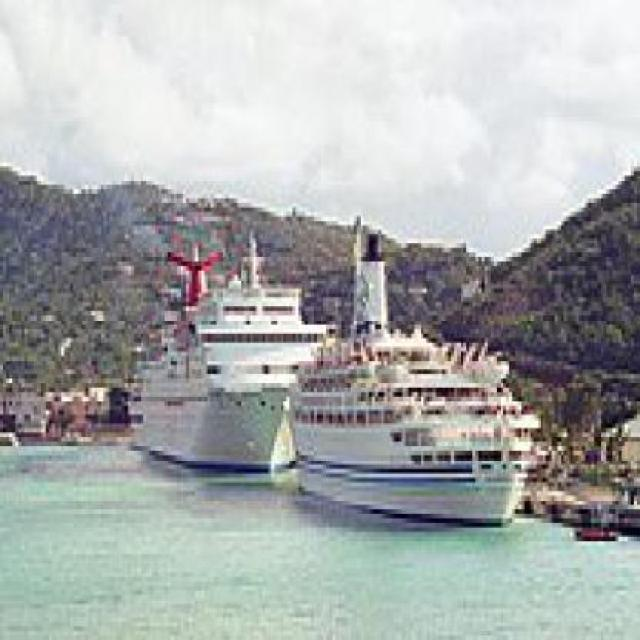cruise: (290, 307, 538, 533), (135, 253, 312, 484)
